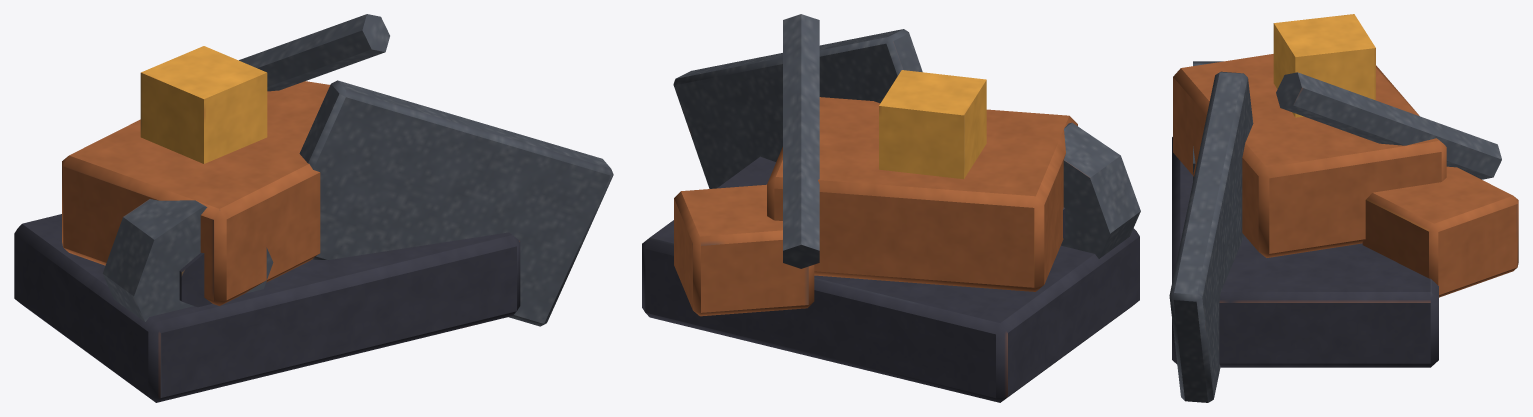
The model's file is scrap_pile.fbx.
The picture shows the model from 3 angles, left to right: view 1: azimuth 30°, elevation 25°; view 2: azimuth 150°, elevation 25°; view 3: azimuth 270°, elevation 25°; orthographic projection. The views are drawn at different scales.
Parts seen in each view (by area): view 1: Scrap_pile; view 2: Scrap_pile; view 3: Scrap_pile.
Part boxes in pixels (x1,y1,x2,y2): Scrap_pile: (14,14,613,402); Scrap_pile: (642,14,1140,402); Scrap_pile: (1169,14,1518,402).
Size of the model in its own units: 3.05 by 1.83 by 2.09.
Materials: 1 (1 with a texture image).
